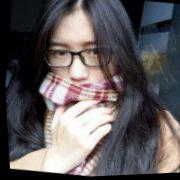WRONG: (35, 28, 125, 117)
